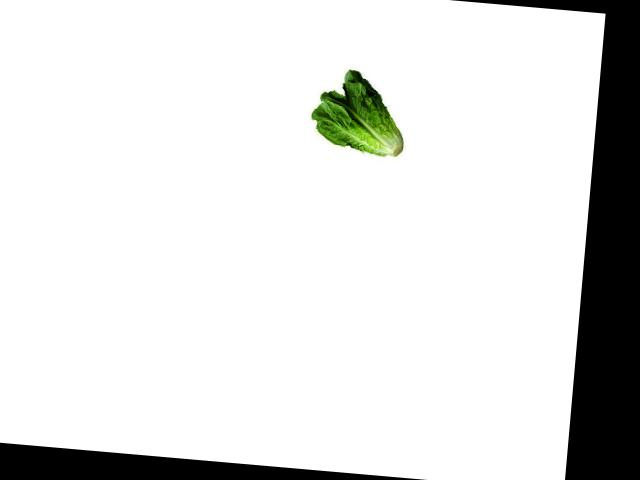lettuce: (308, 63, 415, 166)
